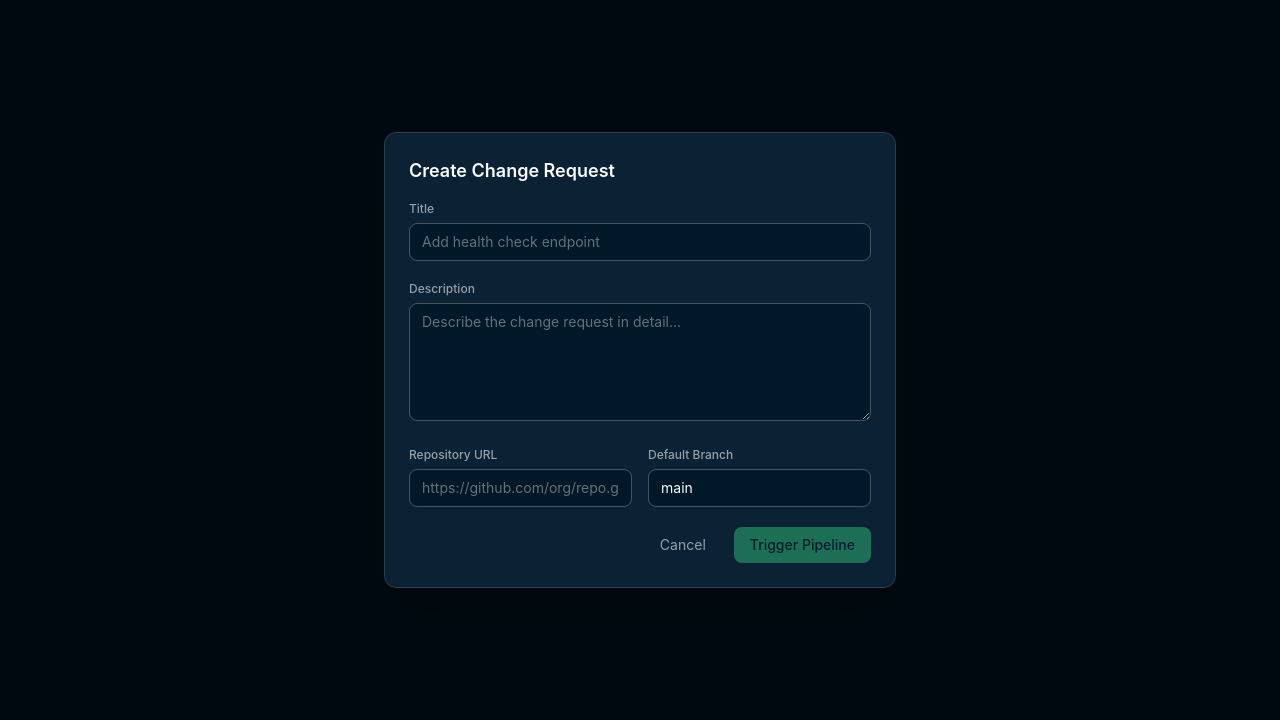
Test: CRCreationDialog › shows API error message and keeps dialog open on submission failure
This screenshot has width=1280, height=720.
Type "My Feature" into the field with placeholder "Add health check endpoint". click: [640, 242]
box: [409, 223, 871, 261]
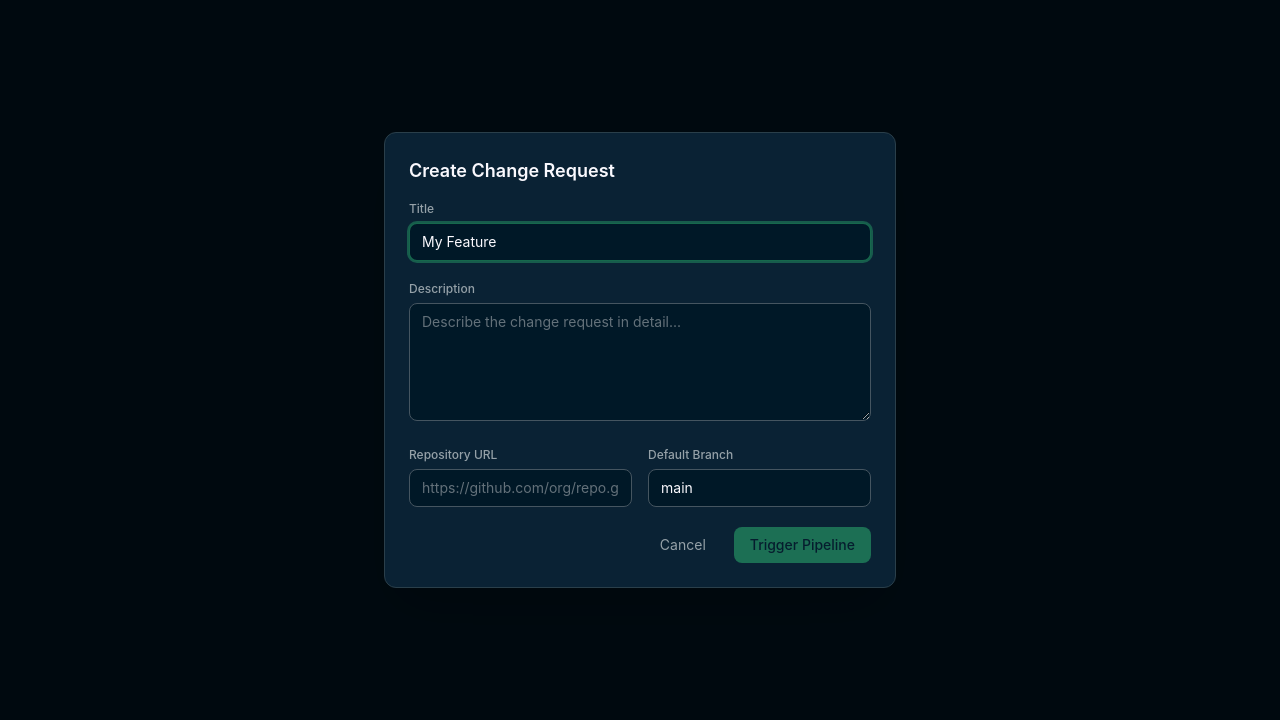
Type "Details here" into the text box with placeholder "Describe the change request in detail...". click: [640, 362]
box: [409, 303, 871, 421]
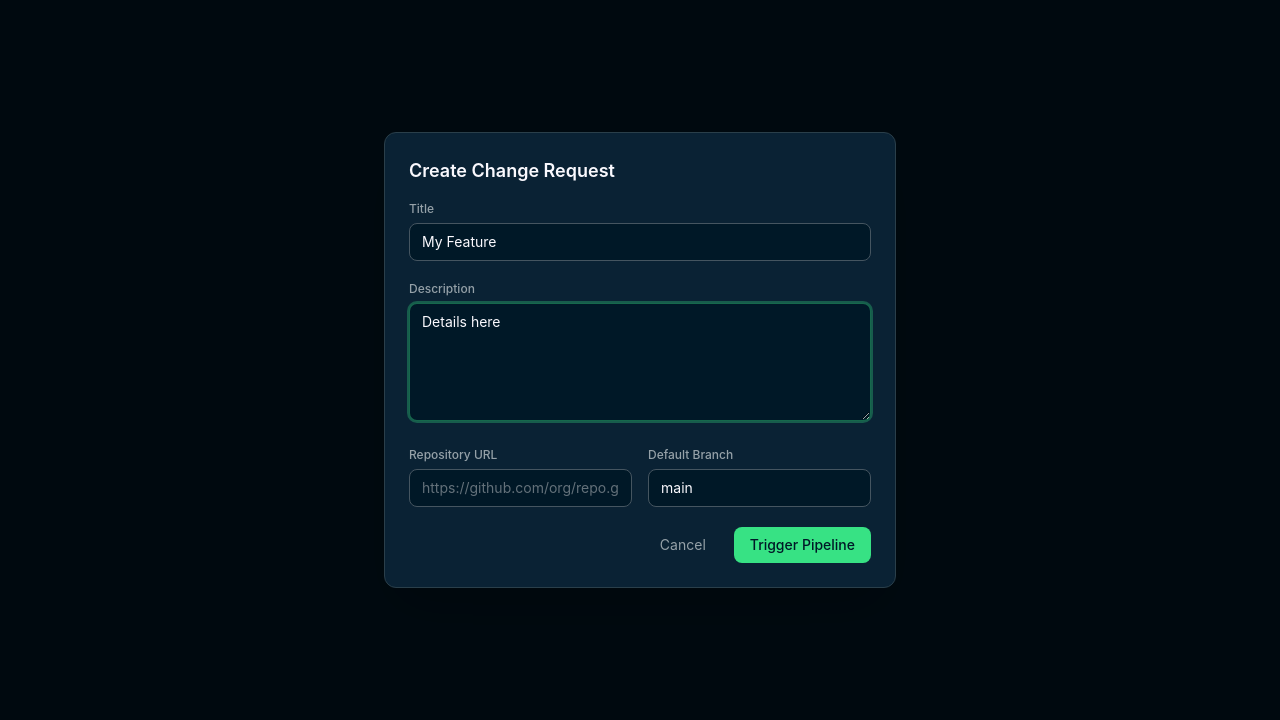
Click the button "Trigger Pipeline". click: [802, 545]
box: [734, 527, 871, 563]
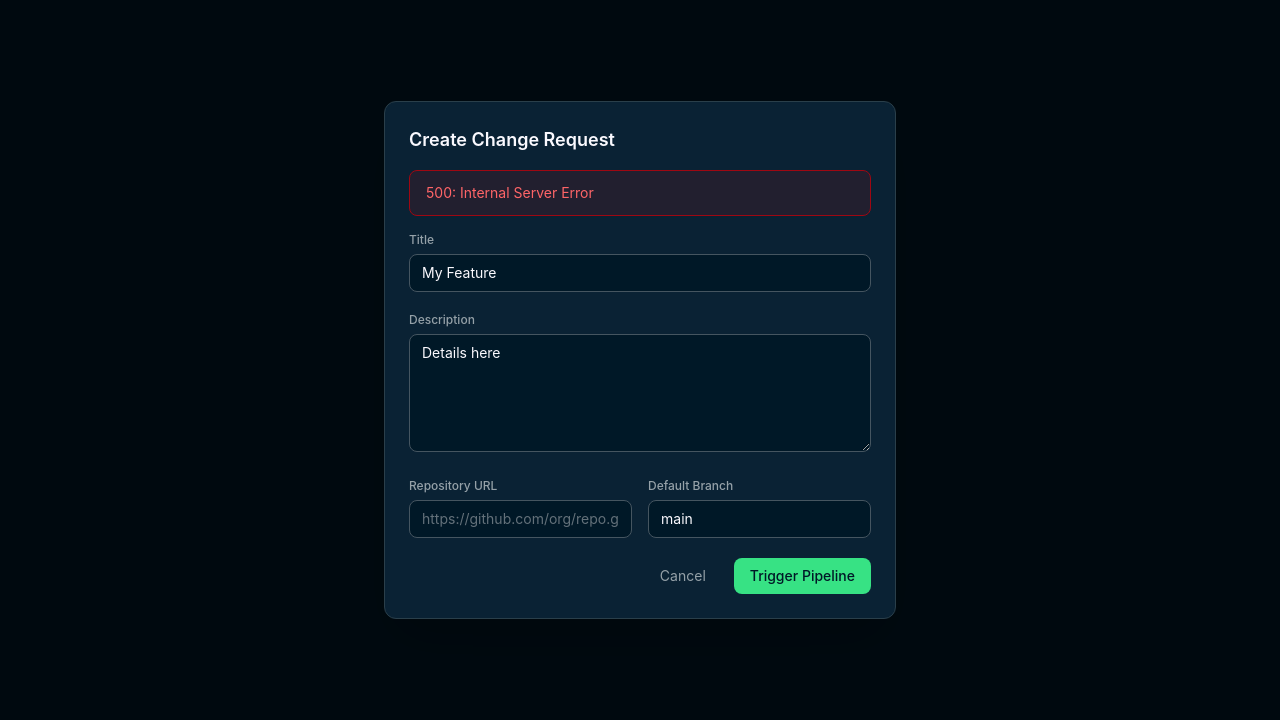
Expected: the dialog is shown, [384, 101, 896, 619]
Now the text "500: Internal Server Error" is shown, box [409, 170, 871, 216]
